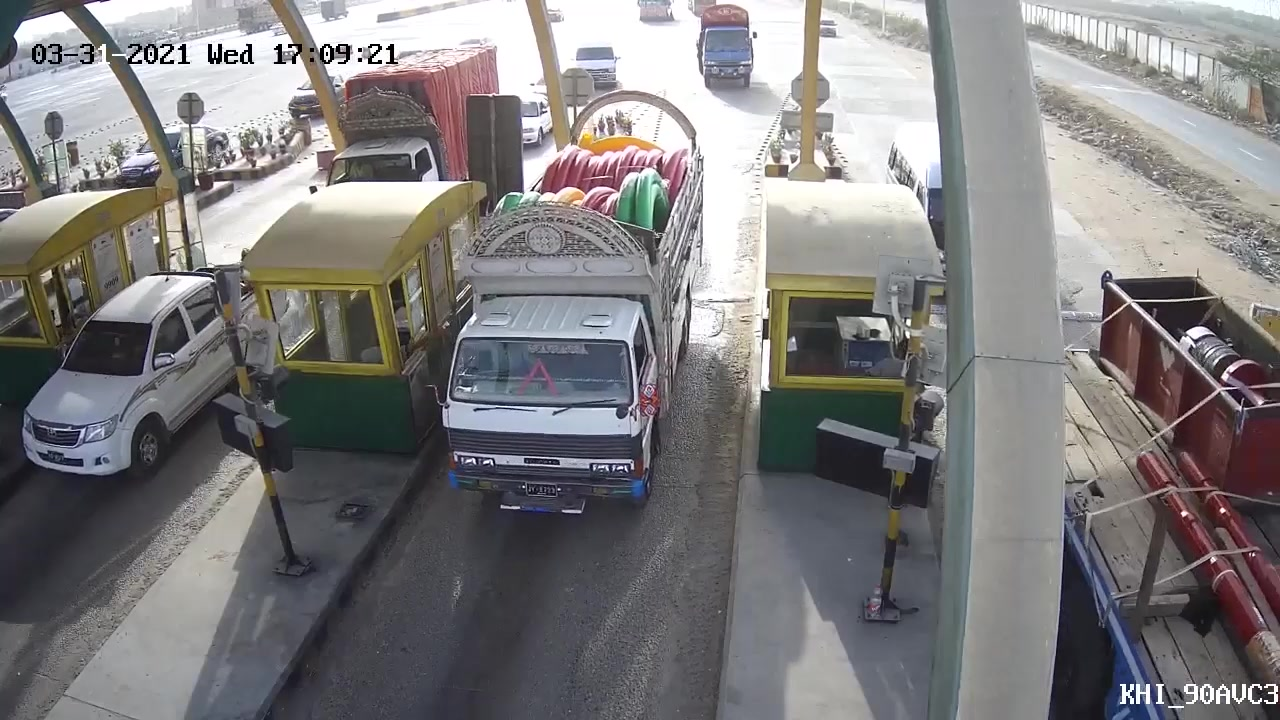F5: (426, 88, 718, 528)
